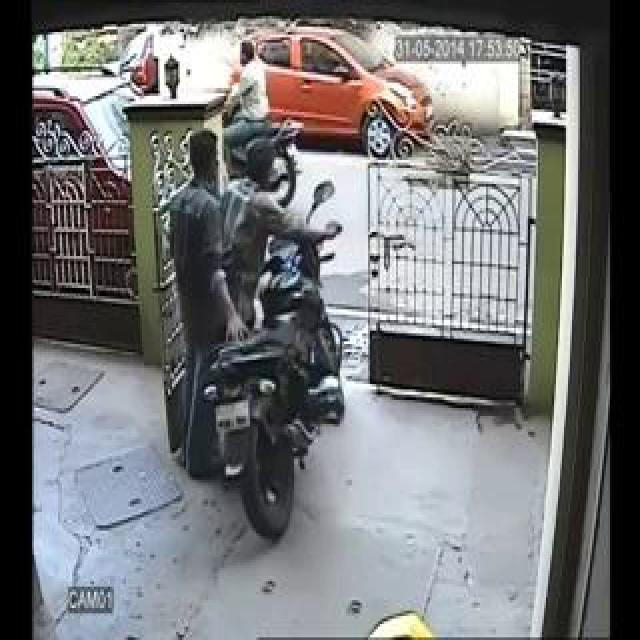stealing: (177, 79, 343, 627)
